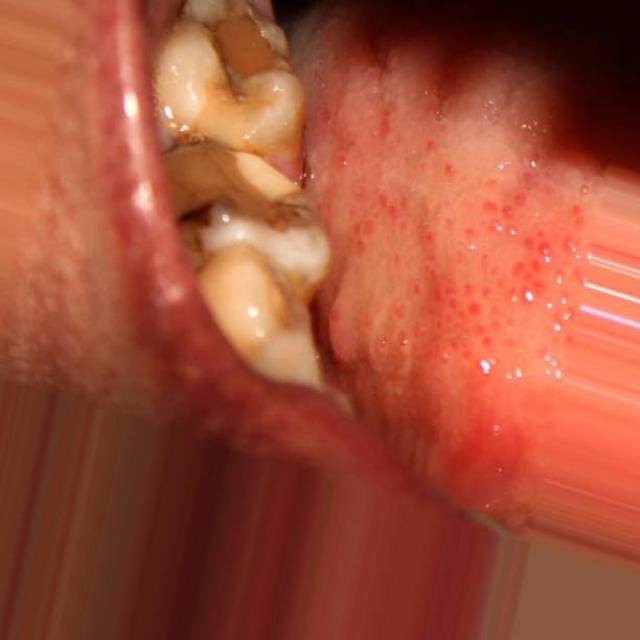caries: (159, 128, 337, 279), (144, 0, 306, 147)
